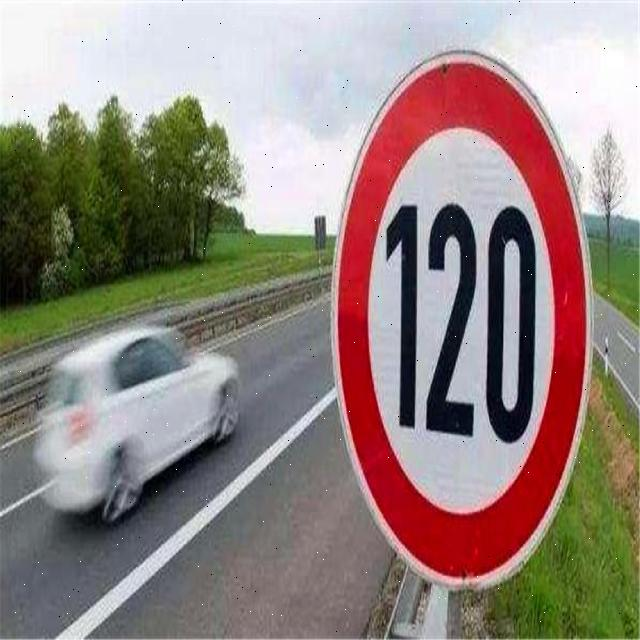speed limit 120: (330, 49, 595, 592)
